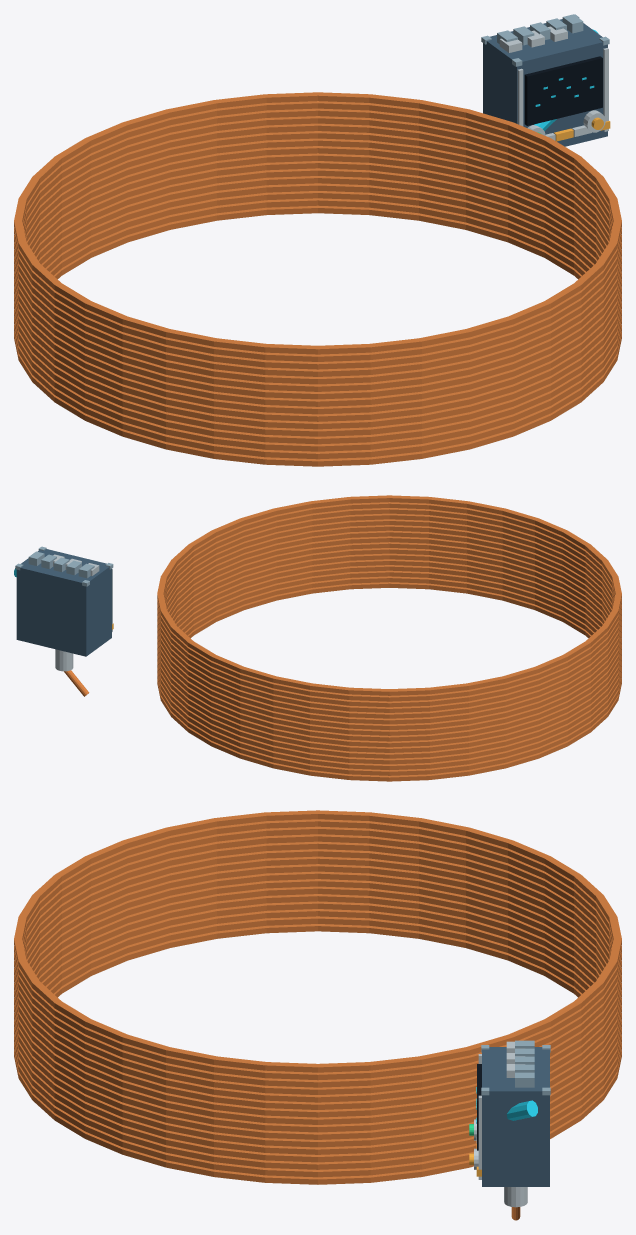
Rendered from 38_L74_ProjectionLensThermalDriftSensor.fbx.
3 views of the same model, one above another, from view 1: azimuth 30°, elevation 25°; view 2: azimuth 150°, elevation 25°; view 3: azimuth 270°, elevation 25° (orthographic). The views are drawn at different scales.
Parts seen in each view (by area): view 1: ProjectionLensThermalDriftSensor; view 2: ProjectionLensThermalDriftSensor; view 3: ProjectionLensThermalDriftSensor.
Part boxes in pixels (bbox=[...]): ProjectionLensThermalDriftSensor: bbox=[14, 14, 621, 466]; ProjectionLensThermalDriftSensor: bbox=[14, 495, 621, 781]; ProjectionLensThermalDriftSensor: bbox=[14, 810, 621, 1220].
Bounding box in the file's own units: 318 × 81.38 × 258.
